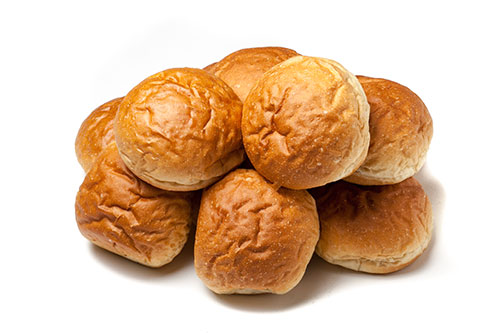hamburger_buns: (81, 45, 441, 292)
